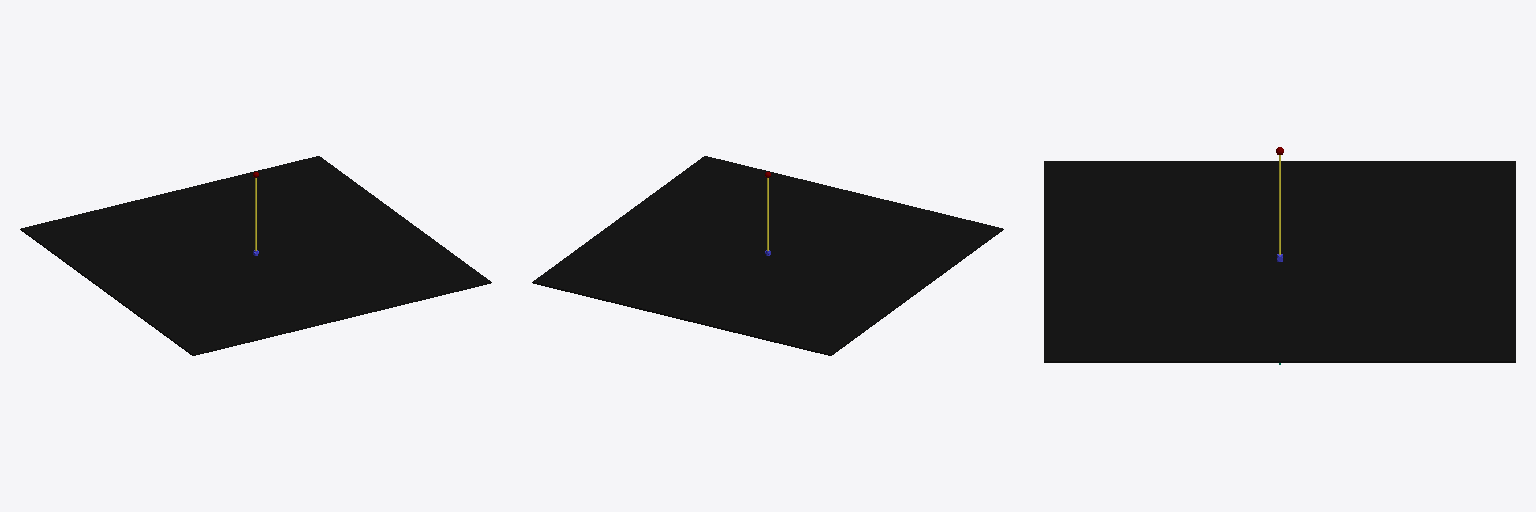
The robot description file, URDF, robot "rprbot":
<?xml version="1.0" ?>

<robot name="rprbot">

    <link name="base_link">
        <inertial>
            <origin xyz="0.0 0.0 0.0" rpy="0 0 0" />
            <mass value="0.01" />
            <inertia ixx="0.0000001" iyy="0.0000001" izz="0.0000001" ixy="0" ixz="0" iyz="0" />
        </inertial>
        <visual>
            <origin xyz="0.0 0.0 -0.1" rpy="0 0 0" />
            <geometry>
                <box size="10 10 0.05" />
            </geometry>
            <material name="material_gray">
                <color rgba="0.1 0.1 0.1 1.0" />
            </material>
        </visual>
    </link>

    <link name="link0">
        <inertial>
            <origin xyz="0.0 0.0 0.0" rpy="0 0 0" />
            <mass value="0.01" />
            <inertia ixx="0.0000001" iyy="0.0000001" izz="0.0000001" ixy="0" ixz="0" iyz="0" />
        </inertial>
        <visual>
            <origin xyz="0.0 0.0 0.0" rpy="0 0 0" />
            <geometry>
                <cylinder radius="0.06" length="0.15"/>
            </geometry>
            <material name="material_blue">
                <color rgba="0.3 0.3 0.9 1.0" />
            </material>
        </visual>
    </link>

    <link name="link1">
        <inertial>
            <origin xyz="0.0 0.0 0.0" rpy="0 0 0" />
            <mass value="0.01" />
            <inertia ixx="0.0000001" iyy="0.0000001" izz="0.0000001" ixy="0" ixz="0" iyz="0" />
        </inertial>
        <visual>
            <origin xyz="0.0 0.0 -1.25" rpy="0 0 0" />
            <geometry>
                <cylinder radius="0.03" length="2.5"/>
            </geometry>
        </visual>
        <visual>
            <origin xyz="0.0 0.0 -0.15" rpy="0 0 0" />
            <geometry>
                <box size="0.1 0.15 0.05"/>
            </geometry>
            <material name="material_blue">
                <color rgba="0.3 0.3 0.9 1.0" />
            </material>
        </visual>
        <visual>
            <origin xyz="0.0 0.0 0.0" rpy="0 -1.57079632679 0" />
            <geometry>
                <cylinder radius="0.06" length="0.15"/>
            </geometry>
            <material name="material_blue">
                <color rgba="0.3 0.3 0.9 1.0" />
            </material>
        </visual>
    </link>

    <link name="link2">
        <inertial>
            <origin xyz="0.0 0.0 2.5" rpy="0 0 0" />
            <mass value="2" />
            <inertia ixx="0.0000001" iyy="0.0000001" izz="0.0000001" ixy="0" ixz="0" iyz="0" />
        </inertial>
        <visual>
            <origin xyz="0.0 0.0 1.25" rpy="0 0 0" />
            <geometry>
                <cylinder radius="0.03" length="2.5"/>
            </geometry>
        </visual>
        <visual>
            <origin xyz="0.0 0.0 2.5" rpy="0 0 0" />
            <geometry>
                <sphere radius="0.09" />
            </geometry>
            <material name="material_red">
		        <color rgba="0.5 0.0 0.0 1.0" />
	        </material>
        </visual>

    </link>
    
    <joint name="j0" type="revolute">
        <parent link="base_link" />
        <child link="link0" />
        <origin xyz="0 0 0" rpy="0 0 0" />
        <axis xyz="0 0 1" />
        <limit lower="-2.967" upper="2.967" effort="176" velocity="1.7104" />
    </joint>

    <joint name="j1" type="prismatic">
        <parent link="link0" />
        <child link="link1" />
        <origin xyz="0 0 0" rpy="0 0 0" />
        <axis xyz="0 0 1" />
        <limit lower="-2.967" upper="2.967" effort="176" velocity="1.7104" />
    </joint>

    <joint name="j2" type="revolute">
        <parent link="link1" />
        <child link="link2" />
        <origin xyz="0 0 0" rpy="0 0 0" />
        <axis xyz="1 0 0" />
        <limit lower="-2.967" upper="2.967" effort="176" velocity="1.7104" />
    </joint>
    
</robot>

--- Render facts (derived) ---
3 views of the same robot in one strip: view 1: azimuth 30°, elevation 25°; view 2: azimuth 150°, elevation 25°; view 3: azimuth 270°, elevation 25° (orthographic).
Robot: rprbot — 4 links, 3 joints (2 revolute, 1 prismatic); root link base_link; default pose: all joints at 0.
Visible links, largest first — view 1: base_link; view 2: base_link; view 3: base_link.
Link boxes in pixels (x1=…): base_link: x1=20, y1=156, x2=491, y2=355; base_link: x1=532, y1=156, x2=1003, y2=355; base_link: x1=1044, y1=161, x2=1515, y2=362.
Bounding box of the posed robot: 10 × 10 × 5.09 m (x, y, z).
Geometry: primitives only (box / cylinder / sphere), no mesh files.
